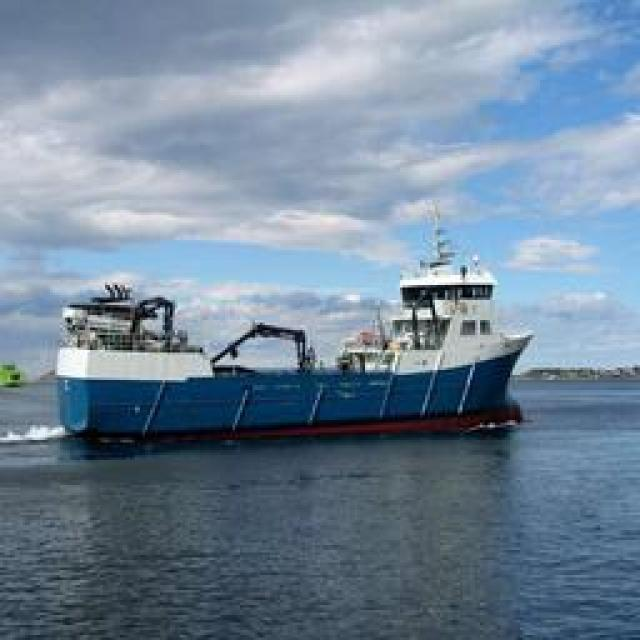CIV_Ship: (51, 250, 534, 445)
